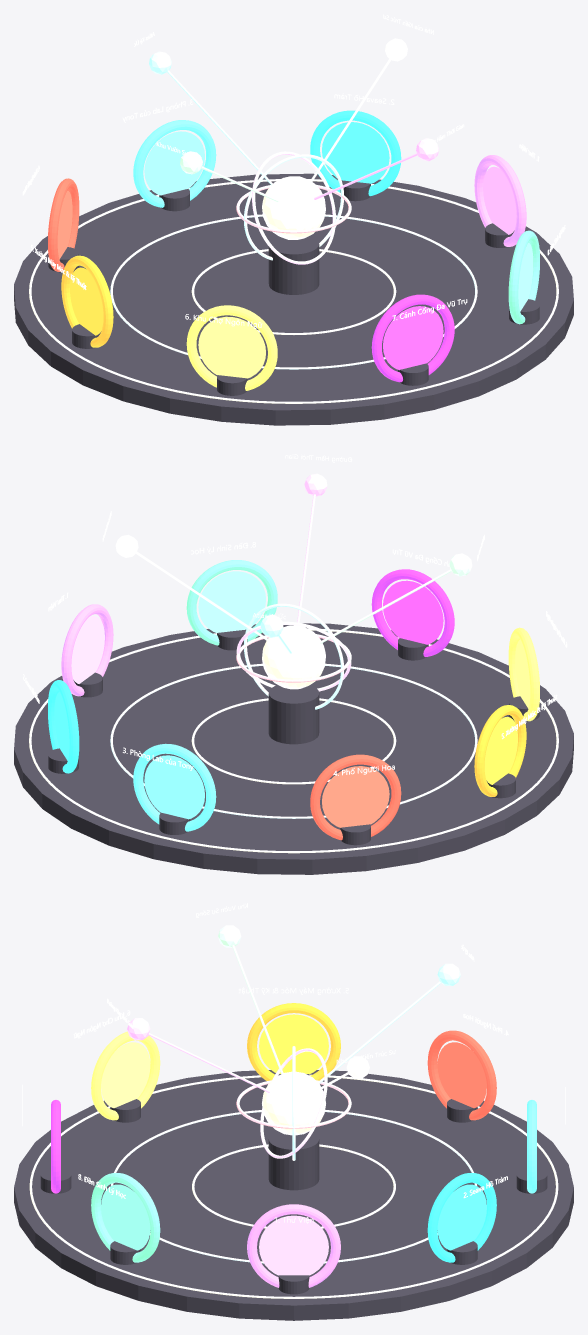
Rendered from luan-hoi-dai.glb.
The picture shows the model from 3 angles, top to bottom: view 1: azimuth 30°, elevation 25°; view 2: azimuth 150°, elevation 25°; view 3: azimuth 270°, elevation 25°; orthographic projection.
Parts seen in each view (by area): view 1: SanTrungTam, Cong_6_Mang, Cong_2_Mang, LoiCotLuanHoi, Cong_7_Mang, VongTron_0, TruTrungTam, Cong_3_Mang, Cong_6_Vong, Cong_7_Vong, Cong_3_Vong, Cong_2_Vong (+16 smaller); view 2: SanTrungTam, Cong_4_Mang, Cong_8_Mang, LoiCotLuanHoi, Cong_3_Mang, Cong_7_Mang, TruTrungTam, VongTron_0, Cong_4_Vong, Cong_3_Vong, Cong_7_Vong, Cong_8_Vong (+16 smaller); view 3: SanTrungTam, Cong_1_Mang, Cong_5_Mang, VongTron_0, LoiCotLuanHoi, TruTrungTam, Cong_4_Mang, Cong_6_Mang, Cong_8_Mang, Cong_2_Mang, Cong_1_Vong, Cong_5_Vong (+11 smaller).
Boxes of the visible parts, x1,y1,x2,y2 form: SanTrungTam: (14,173,573,425); Cong_6_Mang: (198,316,265,378); Cong_2_Mang: (322,122,389,183); LoiCotLuanHoi: (262,176,325,239); Cong_7_Mang: (383,306,443,370); VongTron_0: (29,179,558,403); TruTrungTam: (268,235,319,294); Cong_3_Mang: (144,131,204,195); Cong_6_Vong: (186,305,277,390); Cong_7_Vong: (371,294,454,382); Cong_3_Vong: (133,120,216,207); Cong_2_Vong: (310,110,401,196); SanTrungTam: (14,623,573,874); Cong_4_Mang: (322,766,389,827); Cong_8_Mang: (198,571,265,632); LoiCotLuanHoi: (262,625,325,689); Cong_3_Mang: (144,755,204,819); Cong_7_Mang: (383,580,443,644); TruTrungTam: (268,685,319,744); VongTron_0: (29,628,558,853); Cong_4_Vong: (310,754,401,840); Cong_3_Vong: (133,743,216,831); Cong_7_Vong: (371,569,454,656); Cong_8_Vong: (186,560,277,645); SanTrungTam: (14,1070,573,1320); Cong_1_Mang: (259,1215,328,1275); Cong_5_Mang: (259,1014,328,1074); VongTron_0: (29,1074,558,1298); LoiCotLuanHoi: (262,1071,325,1135); TruTrungTam: (268,1131,319,1190); Cong_4_Mang: (437,1042,486,1108); Cong_6_Mang: (101,1042,150,1108); Cong_8_Mang: (101,1184,150,1250); Cong_2_Mang: (437,1184,486,1250); Cong_1_Vong: (247,1204,340,1287); Cong_5_Vong: (247,1003,340,1080).
Bounding box in the file's own units: 20 × 8.78 × 20.
